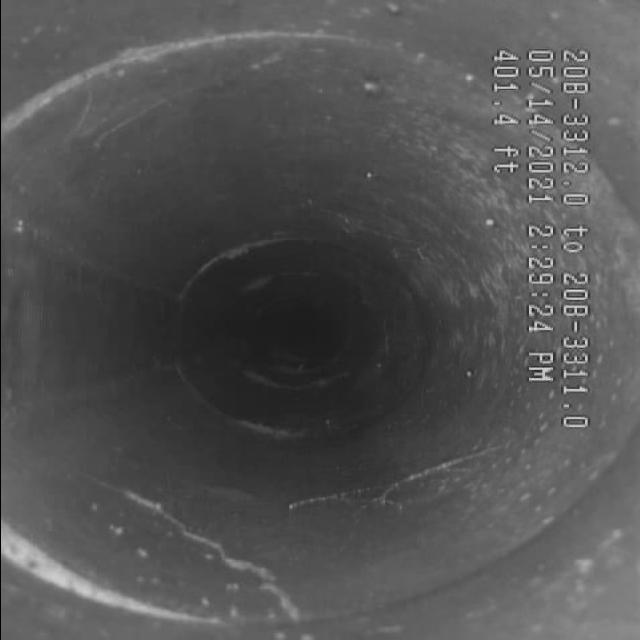Crack: (126, 488, 314, 628)
